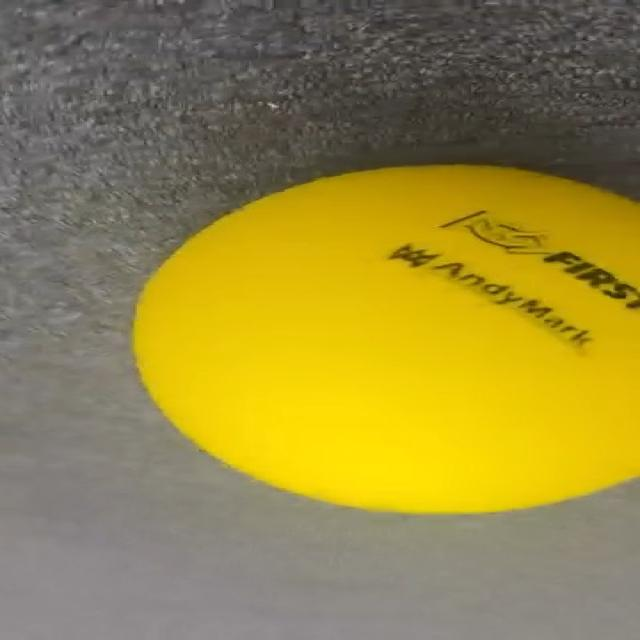Fuels: (135, 166, 638, 512)
